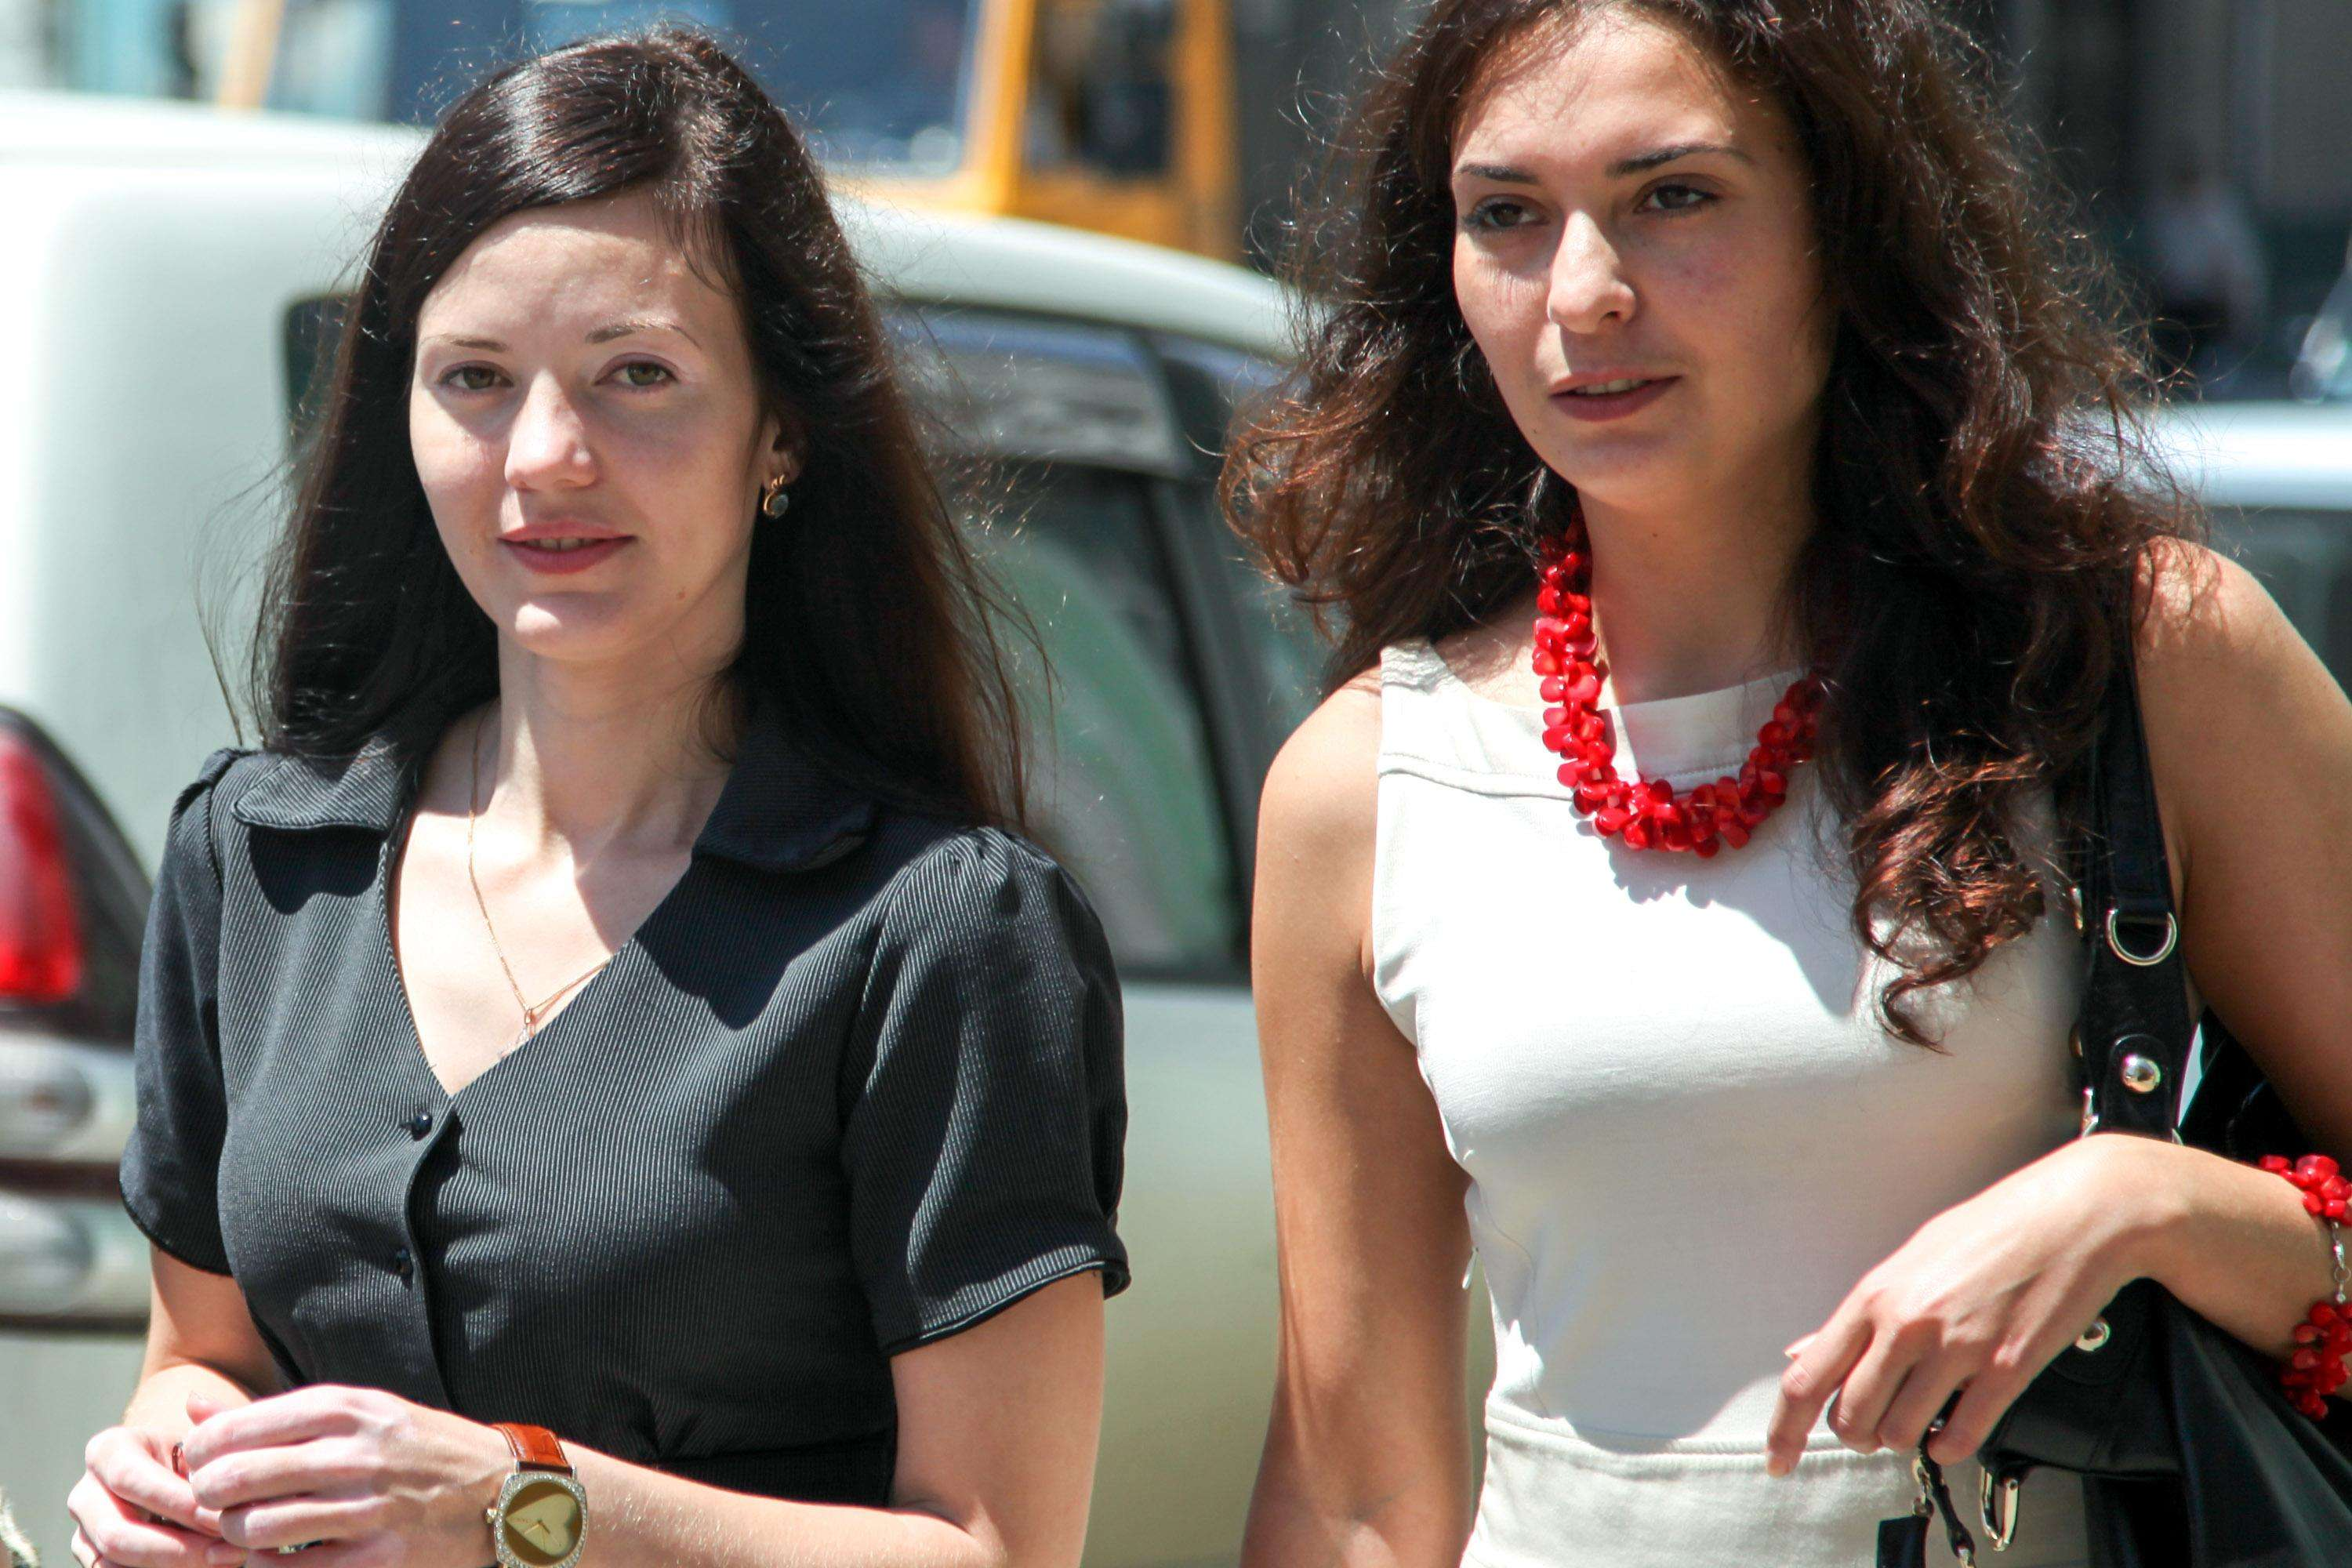person: (1284, 78, 2288, 1499), (236, 129, 923, 816)
